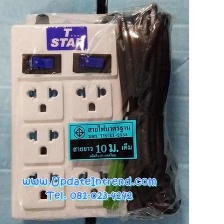three_eye_plug: (6, 10, 143, 223)
